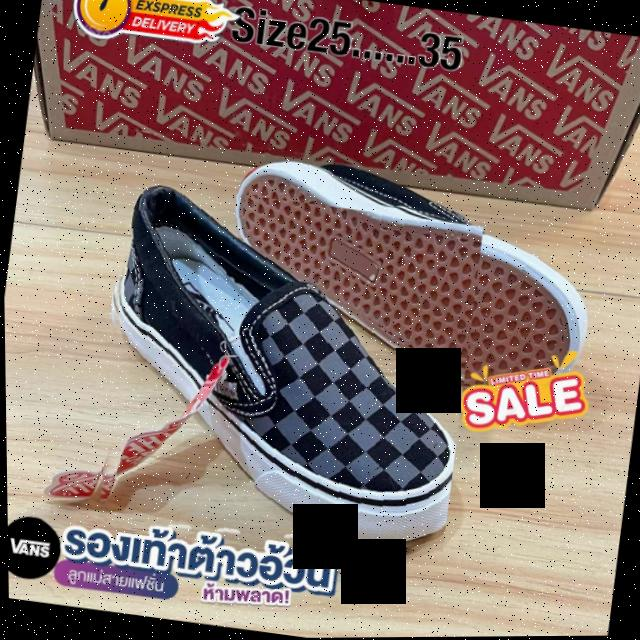shoe: (76, 177, 487, 570)
